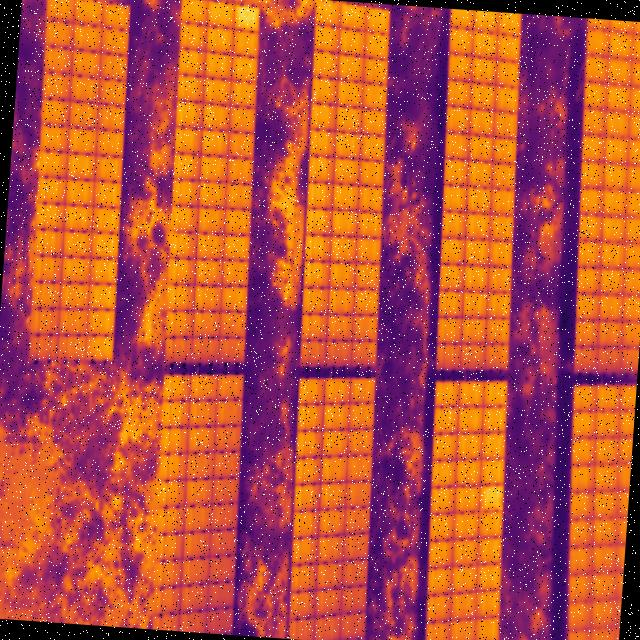Hotspot: (235, 4, 260, 30), (482, 485, 502, 509)
